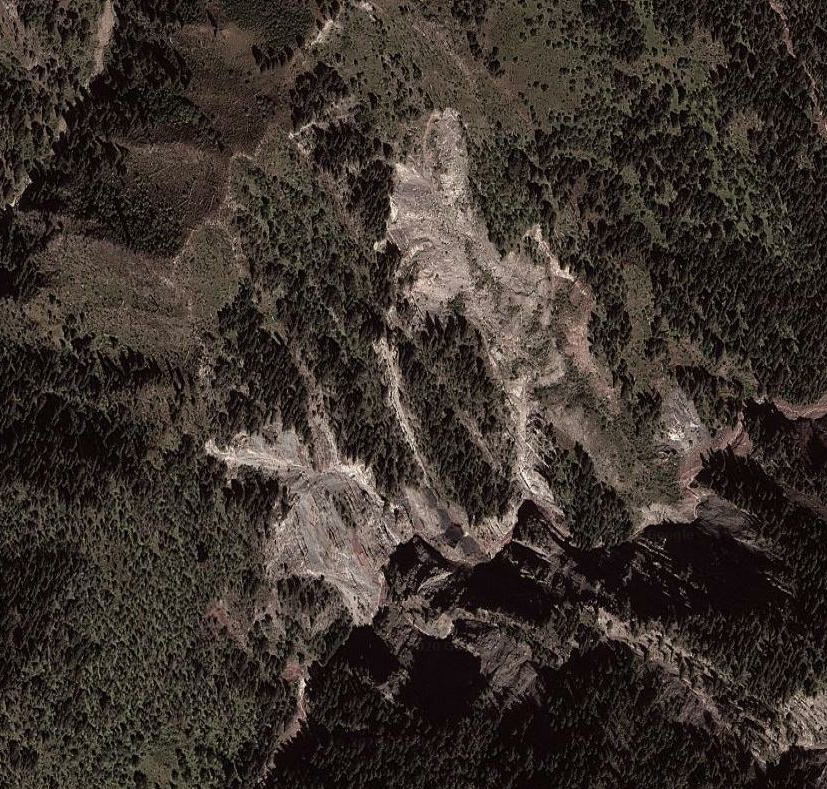slope: (374, 102, 618, 543), (204, 383, 416, 623), (651, 371, 752, 481)
